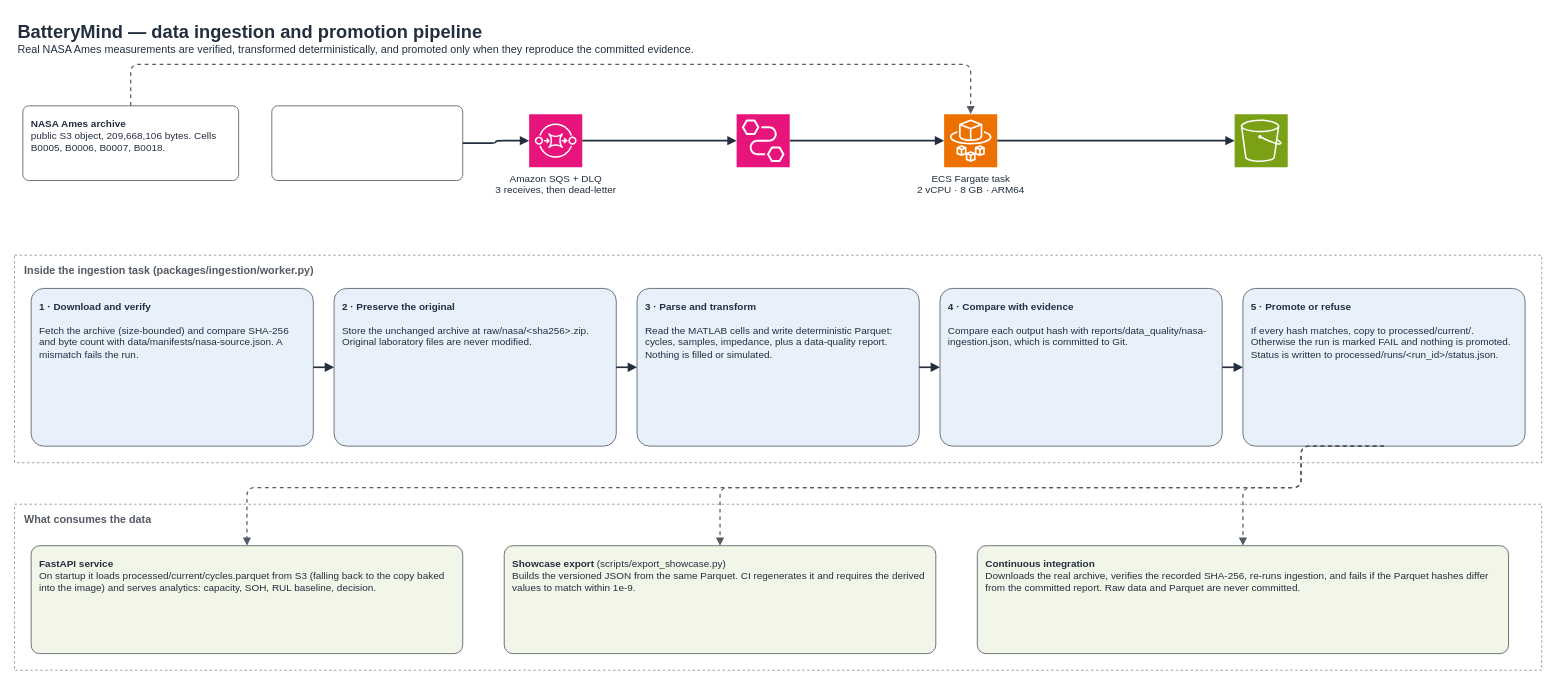
The diagram is 1556 pixels wide and 685 high, and some of its shapes have lost their labels. The shapes that lost their labels are listed below. From the top down, each one's centre as x and y in pixels, then its label:
At point (367, 143): "Operator sends a versioned ingestion request as an SQS message.".
At point (763, 140): "EventBridge Pipe batch size 1".
At point (1261, 140): "S3 data bucket encrypted, TLS only".
